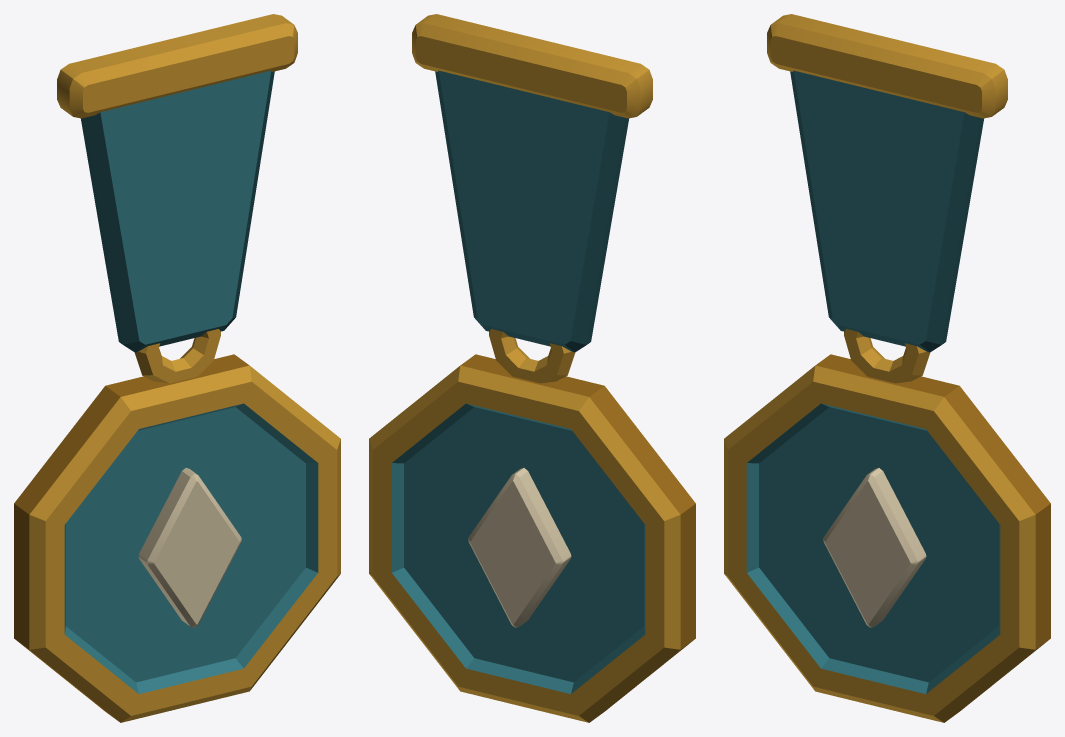
The model's file is Medal_31.glb.
The picture shows the model from 3 angles, left to right: view 1: azimuth 30°, elevation 25°; view 2: azimuth 150°, elevation 25°; view 3: azimuth 330°, elevation 25°; orthographic projection.
Visible parts, largest first — view 1: Medal_31; view 2: Medal_31; view 3: Medal_31.
Part boxes in pixels (<box>): Medal_31: <box>14,14,340,722</box>; Medal_31: <box>369,14,695,722</box>; Medal_31: <box>724,14,1050,722</box>.
Bounding box in the file's own units: 1.29 × 2.6 × 0.28.
